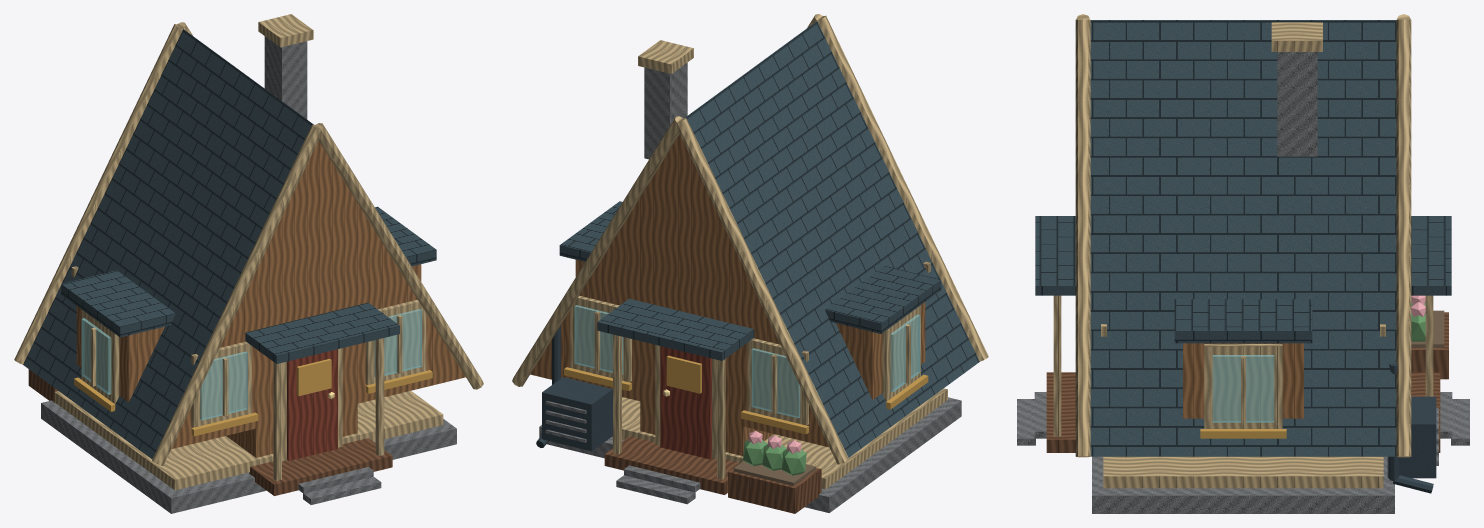
File: house_aframe_lv2.glb
The picture shows the model from 3 angles, left to right: view 1: azimuth 30°, elevation 25°; view 2: azimuth 150°, elevation 25°; view 3: azimuth 270°, elevation 25°; orthographic projection. The views are drawn at different scales.
Visible parts, largest first — view 1: steep_roof, a_frame_gables, floor_trim, foundation, walls, front_porch_canopy, a_frame_edge, left_dormer_cap, front_door, a_frame_edge.001, a_frame_edge.002, front_deck (+18 smaller); view 2: steep_roof, a_frame_gables, walls, back_porch_canopy, a_frame_edge.001, left_dormer_cap, foundation, back_door, a_frame_edge, a_frame_edge.003, back_ac_unit, floor_trim (+22 smaller); view 3: steep_roof.001, floor_trim, foundation, a_frame_edge.002, a_frame_edge.003, right_window_frame, right_dormer_cap, chimney, right_window_glass, right_dormer, back_porch_canopy, front_porch_canopy (+13 smaller).
Part boxes in pixels (left/top/right/bottom): steep_roof: left=23, top=29, right=313, bottom=459; a_frame_gables: left=171, top=140, right=465, bottom=448; floor_trim: left=54, top=391, right=443, bottom=490; foundation: left=41, top=400, right=456, bottom=513; walls: left=226, top=280, right=357, bottom=457; front_porch_canopy: left=245, top=302, right=399, bottom=363; a_frame_edge: left=152, top=124, right=320, bottom=465; left_dormer_cap: left=61, top=270, right=175, bottom=337; front_door: left=287, top=349, right=337, bottom=460; a_frame_edge.001: left=14, top=24, right=182, bottom=364; a_frame_edge.002: left=315, top=123, right=483, bottom=389; front_deck: left=249, top=438, right=392, bottom=495; steep_roof: left=684, top=21, right=979, bottom=457; a_frame_gables: left=530, top=134, right=828, bottom=447; walls: left=640, top=276, right=773, bottom=455; back_porch_canopy: left=597, top=298, right=754, bottom=360; a_frame_edge.001: left=677, top=118, right=848, bottom=464; left_dormer_cap: left=825, top=266, right=941, bottom=333; foundation: left=539, top=397, right=961, bottom=512; back_door: left=660, top=346, right=711, bottom=459; a_frame_edge: left=817, top=15, right=988, bottom=361; a_frame_edge.003: left=512, top=116, right=683, bottom=386; back_ac_unit: left=542, top=377, right=612, bottom=451; floor_trim: left=612, top=388, right=947, bottom=489; steep_roof.001: left=1090, top=20, right=1396, bottom=456; floor_trim: left=1103, top=456, right=1383, bottom=488; foundation: left=1092, top=456, right=1394, bottom=513; a_frame_edge.002: left=1075, top=19, right=1090, bottom=457; a_frame_edge.003: left=1396, top=19, right=1411, bottom=457; right_window_frame: left=1204, top=344, right=1282, bottom=428; right_dormer_cap: left=1174, top=299, right=1312, bottom=343; chimney: left=1277, top=52, right=1317, bottom=156; right_window_glass: left=1212, top=355, right=1274, bottom=422; right_dormer: left=1183, top=343, right=1303, bottom=418; back_porch_canopy: left=1411, top=216, right=1451, bottom=295; front_porch_canopy: left=1035, top=216, right=1075, bottom=295.
Size of the model in its own units: 3.3 by 3.56 by 3.36.
13 materials, 7 textured.
